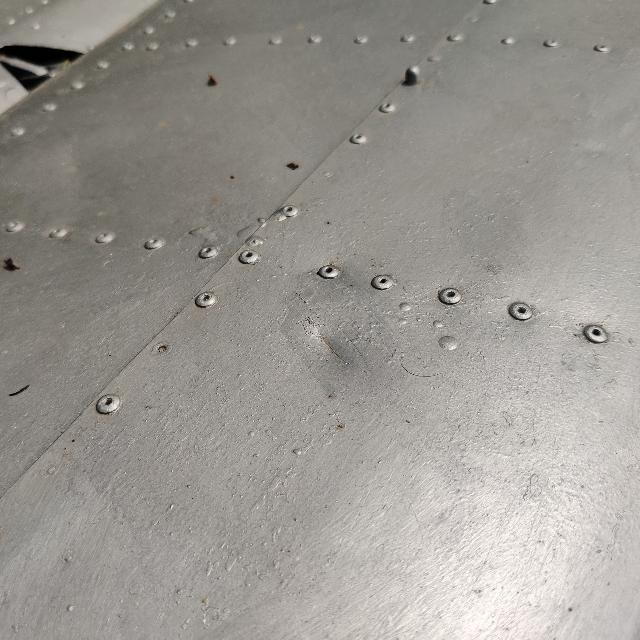dent: (279, 290, 396, 406)
